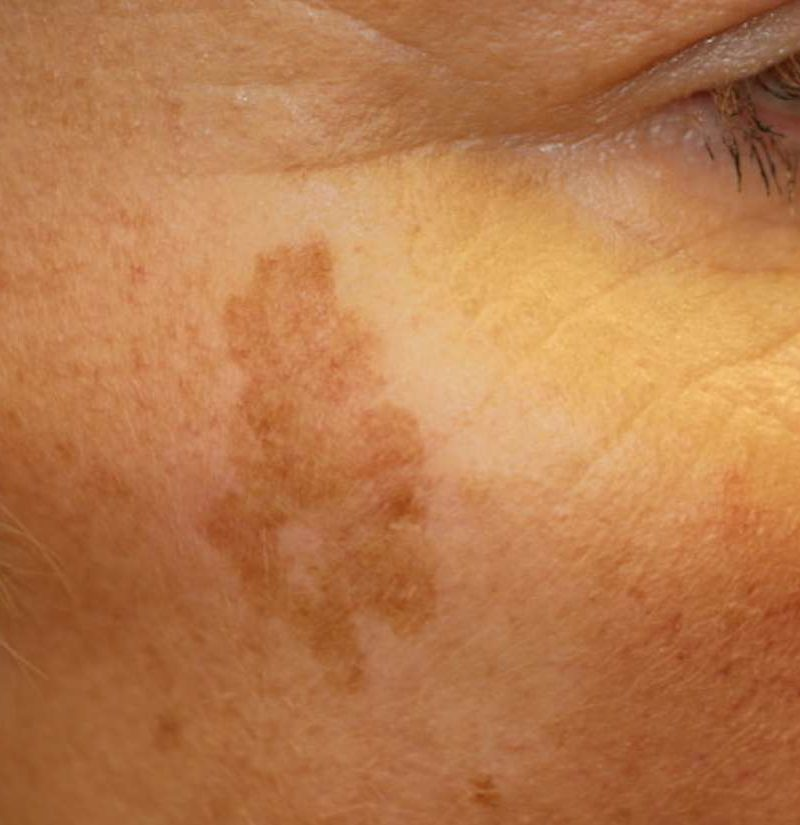DARK_SPOTS: (215, 253, 431, 693)
